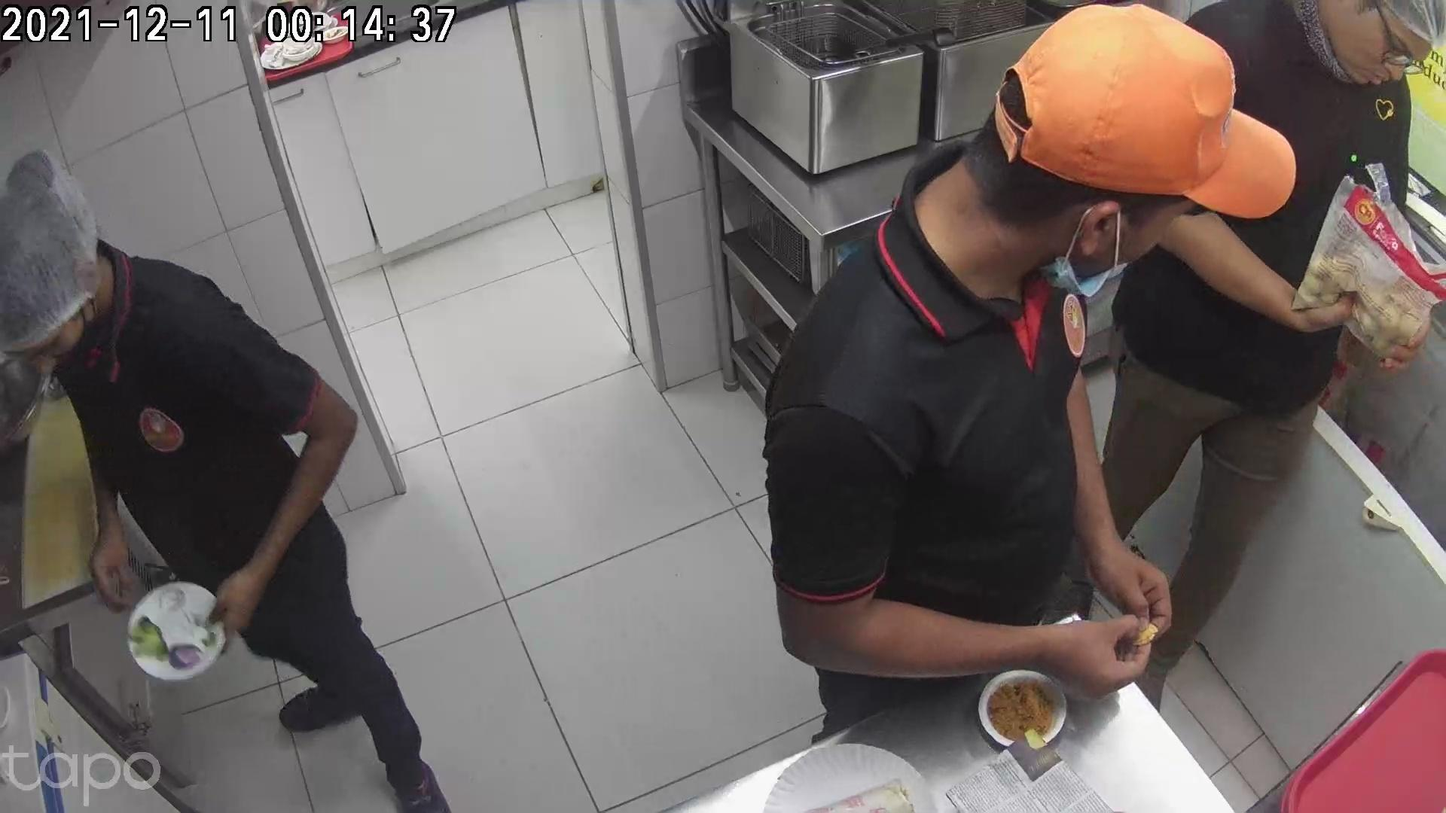gloves: (890, 621, 992, 750)
no_gloves: (1035, 592, 1116, 718)
